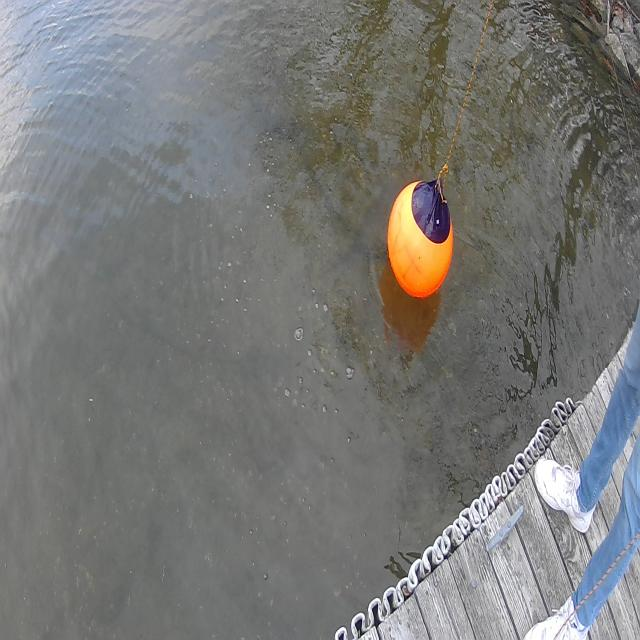Buoy: (381, 168, 458, 308)
